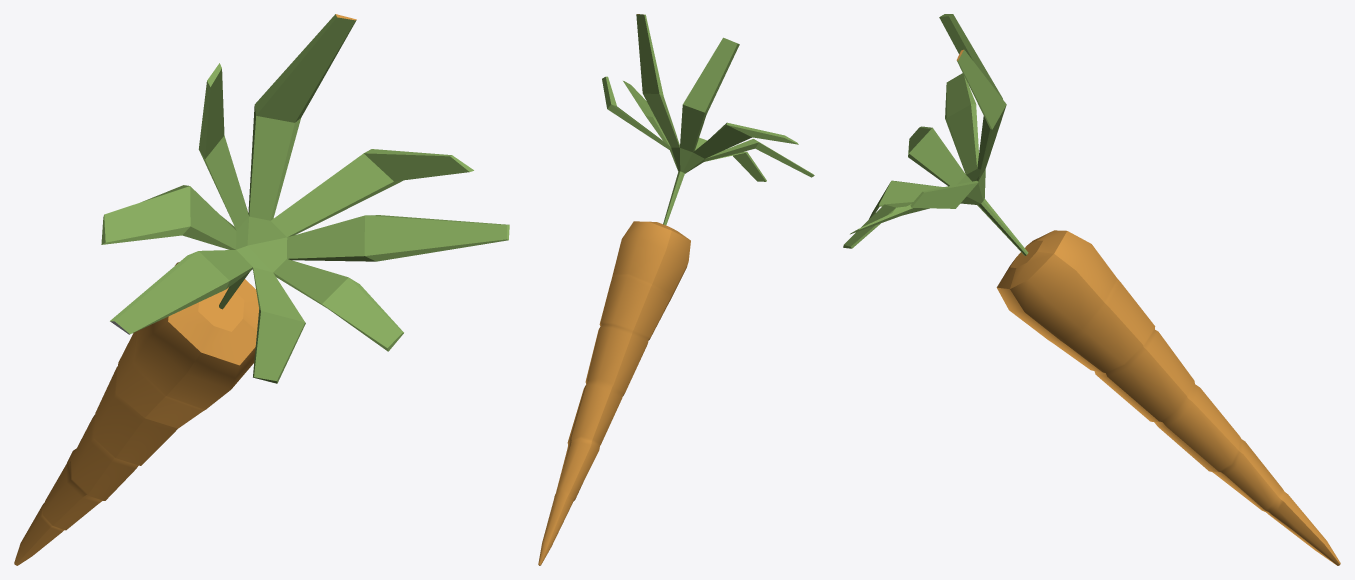
File: carrot.fbx
3 renders of one model, left to right at view 1: azimuth 30°, elevation 25°; view 2: azimuth 150°, elevation 25°; view 3: azimuth 270°, elevation 25°, orthographic. The views are drawn at different scales.
Visible parts, largest first — view 1: polySurface123, polySurface122; view 2: polySurface122, polySurface123; view 3: polySurface122, polySurface123.
Part boxes in pixels (<box>): polySurface123: <box>101,14,509,383</box>; polySurface122: <box>14,14,356,565</box>; polySurface122: <box>538,14,690,565</box>; polySurface123: <box>602,14,814,225</box>; polySurface122: <box>957,49,1340,565</box>; polySurface123: <box>843,14,1028,255</box>.
Bounding box in the file's own units: 15.09 × 28.68 × 23.79.
